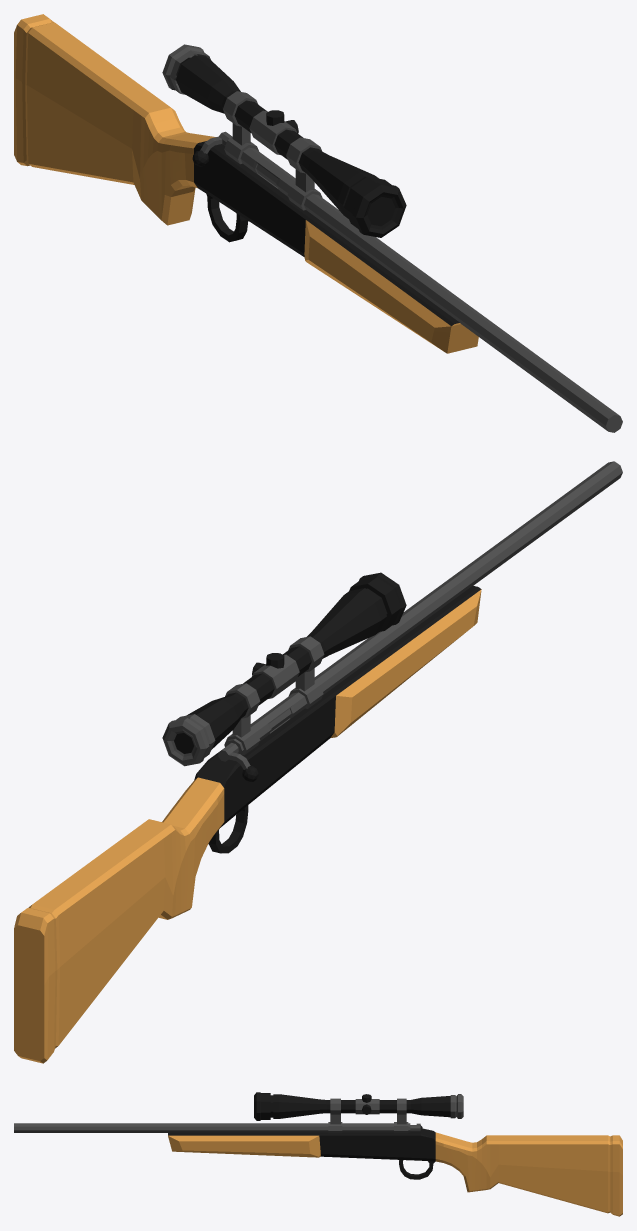
File: sniper.fbx
3 renders of one model, top to bottom at view 1: azimuth 30°, elevation 25°; view 2: azimuth 150°, elevation 25°; view 3: azimuth 270°, elevation 25°, orthographic. The views are drawn at different scales.
Parts seen in each view (by area): view 1: sniper; view 2: sniper; view 3: sniper.
Part boxes in pixels (x1=…): sniper: x1=14, y1=14, x2=622, y2=432; sniper: x1=14, y1=461, x2=622, y2=1063; sniper: x1=14, y1=1092, x2=622, y2=1216.
Size of the model in its own units: 0.1873 by 0.7287 by 3.32.
